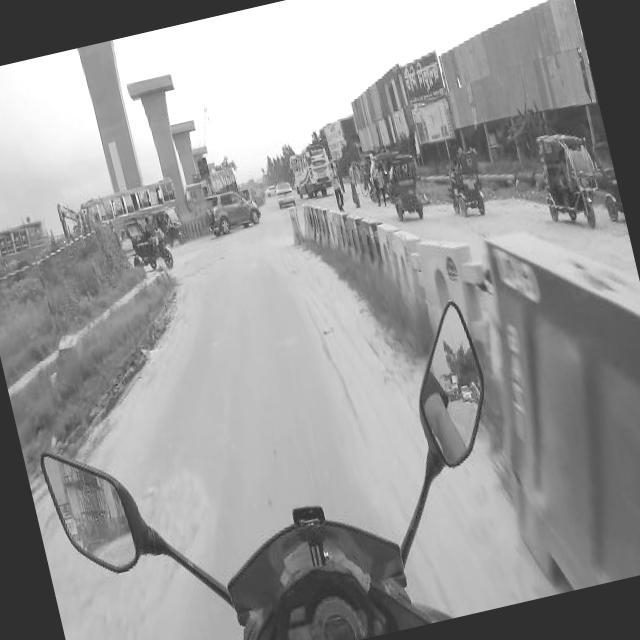bus: (78, 174, 184, 248), (0, 214, 57, 284), (285, 136, 336, 200)
car: (200, 184, 264, 236), (274, 178, 294, 205), (264, 180, 279, 196)
motorcycle: (25, 299, 535, 640), (530, 122, 608, 234), (442, 142, 491, 216), (383, 147, 427, 222), (124, 209, 173, 271), (591, 139, 624, 222), (362, 149, 400, 202), (150, 202, 187, 248)
truck: (180, 164, 241, 212)
